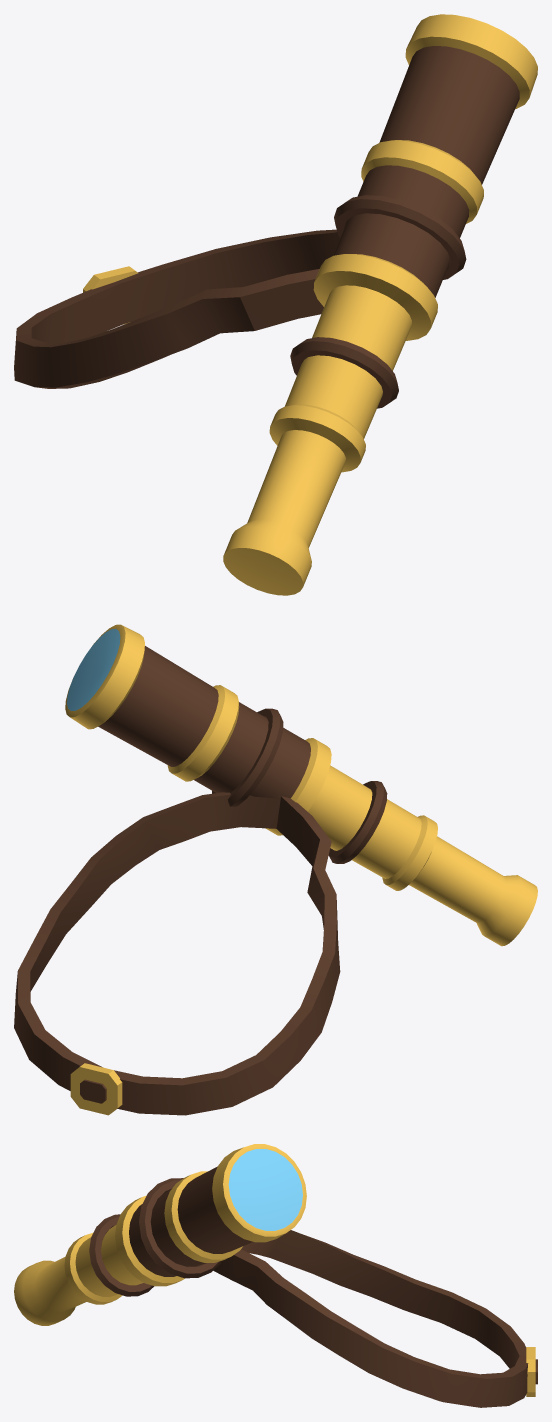
File: longue_vue.fbx
3 views of the same model, one above another, from view 1: azimuth 30°, elevation 25°; view 2: azimuth 150°, elevation 25°; view 3: azimuth 270°, elevation 25° (orthographic). The views are drawn at different scales.
Parts seen in each view (by area): view 1: Anim_LongueVue, Bandouliere; view 2: Anim_LongueVue, Bandouliere; view 3: Anim_LongueVue, Bandouliere.
Part boxes in pixels (box(x1,y1,x2,y2)): Anim_LongueVue: box(223, 14, 537, 595); Bandouliere: box(14, 229, 340, 388); Anim_LongueVue: box(65, 624, 537, 946); Bandouliere: box(14, 792, 340, 1115); Anim_LongueVue: box(14, 1144, 306, 1325); Bandouliere: box(213, 1230, 537, 1407).
Bounding box in the file's own units: 0.9859 × 0.886 × 1.4.
